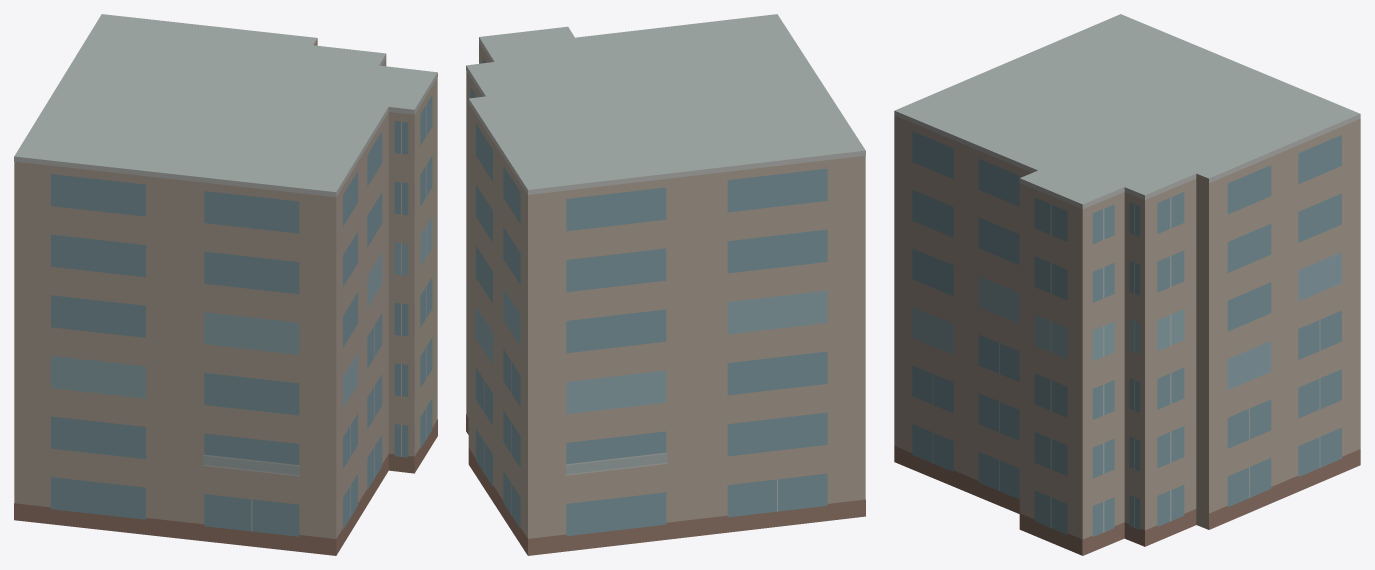
Rendered from survey-upis-33021569.glb.
3 views of the same model, side by side, from view 1: azimuth 30°, elevation 25°; view 2: azimuth 150°, elevation 25°; view 3: azimuth 270°, elevation 25° (orthographic). The views are drawn at different scales.
Visible parts, largest first — view 1: survey-upis-33021569.tmp; view 2: survey-upis-33021569.tmp; view 3: survey-upis-33021569.tmp.
Boxes of the visible parts, x1,y1,x2,y2 form: survey-upis-33021569.tmp: [14, 14, 437, 555]; survey-upis-33021569.tmp: [466, 14, 865, 555]; survey-upis-33021569.tmp: [894, 14, 1360, 555].
Bounding box in the file's own units: 20.58 × 17.7 × 21.28.
